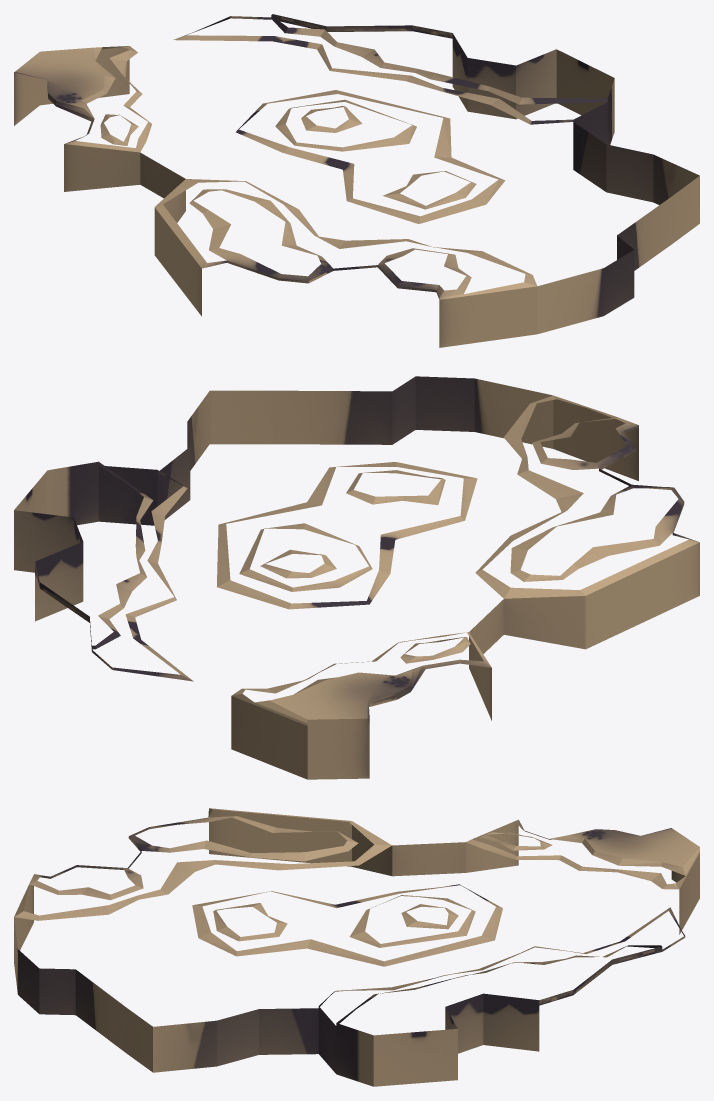
File: Ground_02.FBX
3 views of the same model, one above another, from view 1: azimuth 30°, elevation 25°; view 2: azimuth 150°, elevation 25°; view 3: azimuth 270°, elevation 25° (orthographic). The views are drawn at different scales.
Visible parts, largest first — view 1: Ground_02; view 2: Ground_02; view 3: Ground_02.
Boxes of the visible parts, x1=… form: Ground_02: x1=14, y1=14, x2=699, y2=347; Ground_02: x1=14, y1=376, x2=699, y2=779; Ground_02: x1=14, y1=808, x2=699, y2=1086.
Size of the model in its own units: 22.6 by 2.38 by 28.15.
